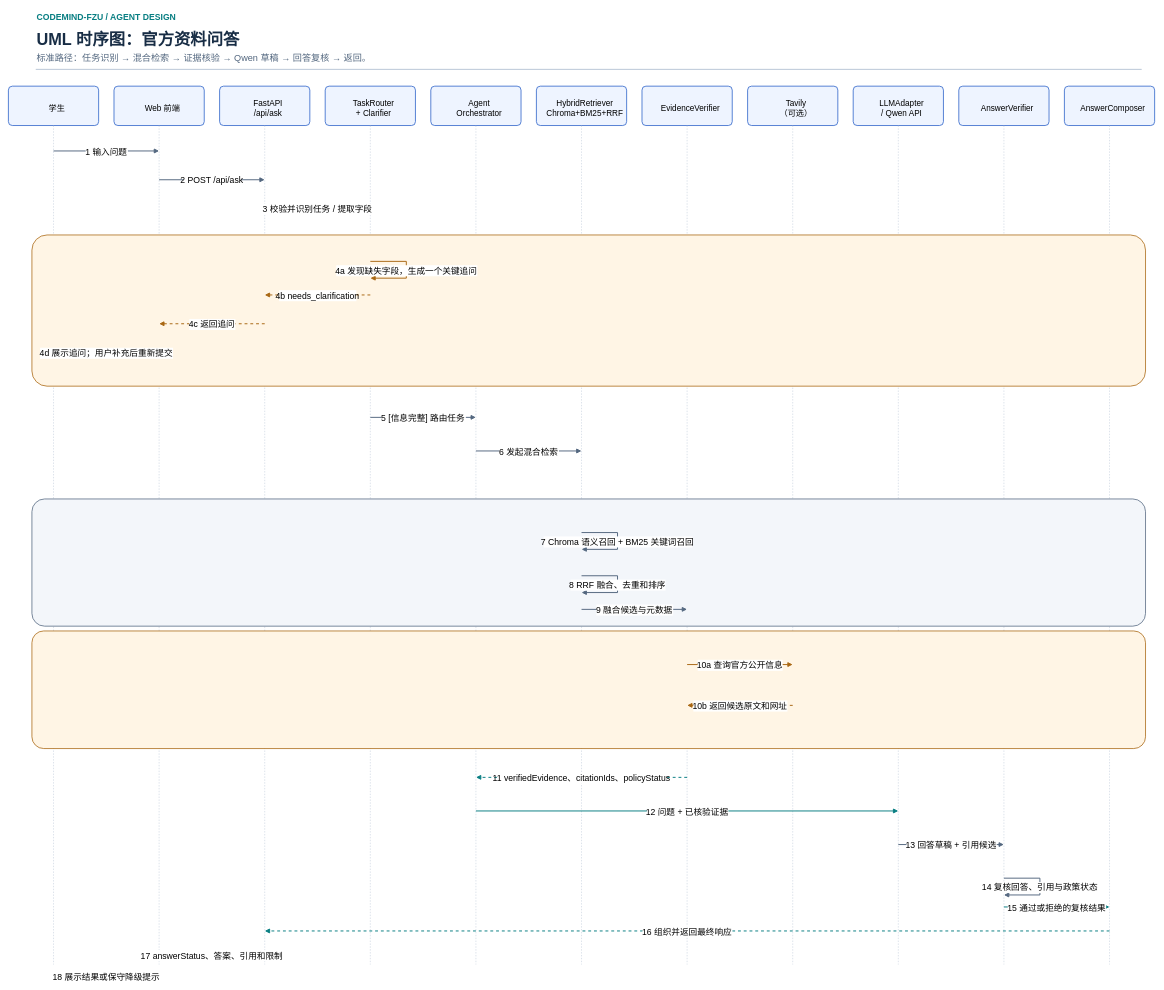
Image size: 1164x990. Some labels were removed from this diagram. Each missing label, with the centre of its shape:
opt [本地证据不足且允许在线核验]: (x=588, y=689)
opt [缺少必要字段：返回追问并结束本次请求]: (x=588, y=310)
par [Chroma 与 BM25 双路召回，RRF 融合]: (x=588, y=562)
